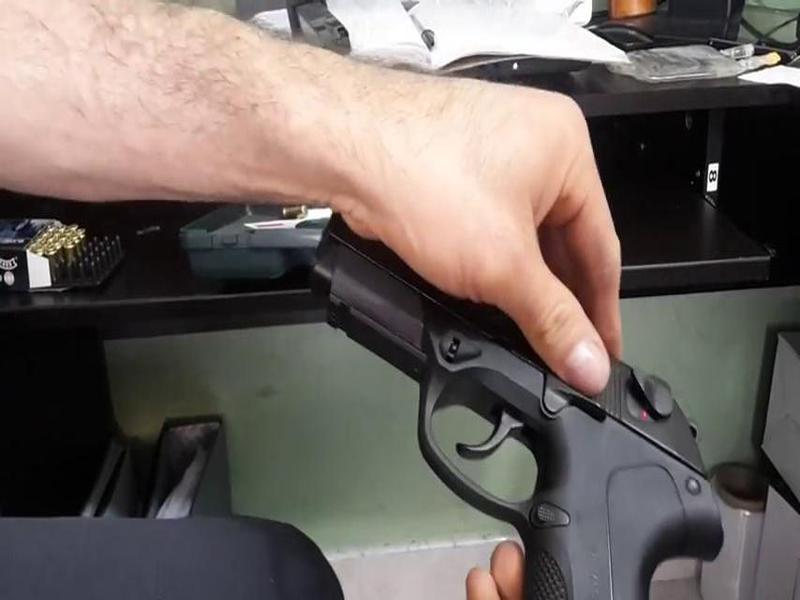Pistola: (307, 214, 737, 600)
